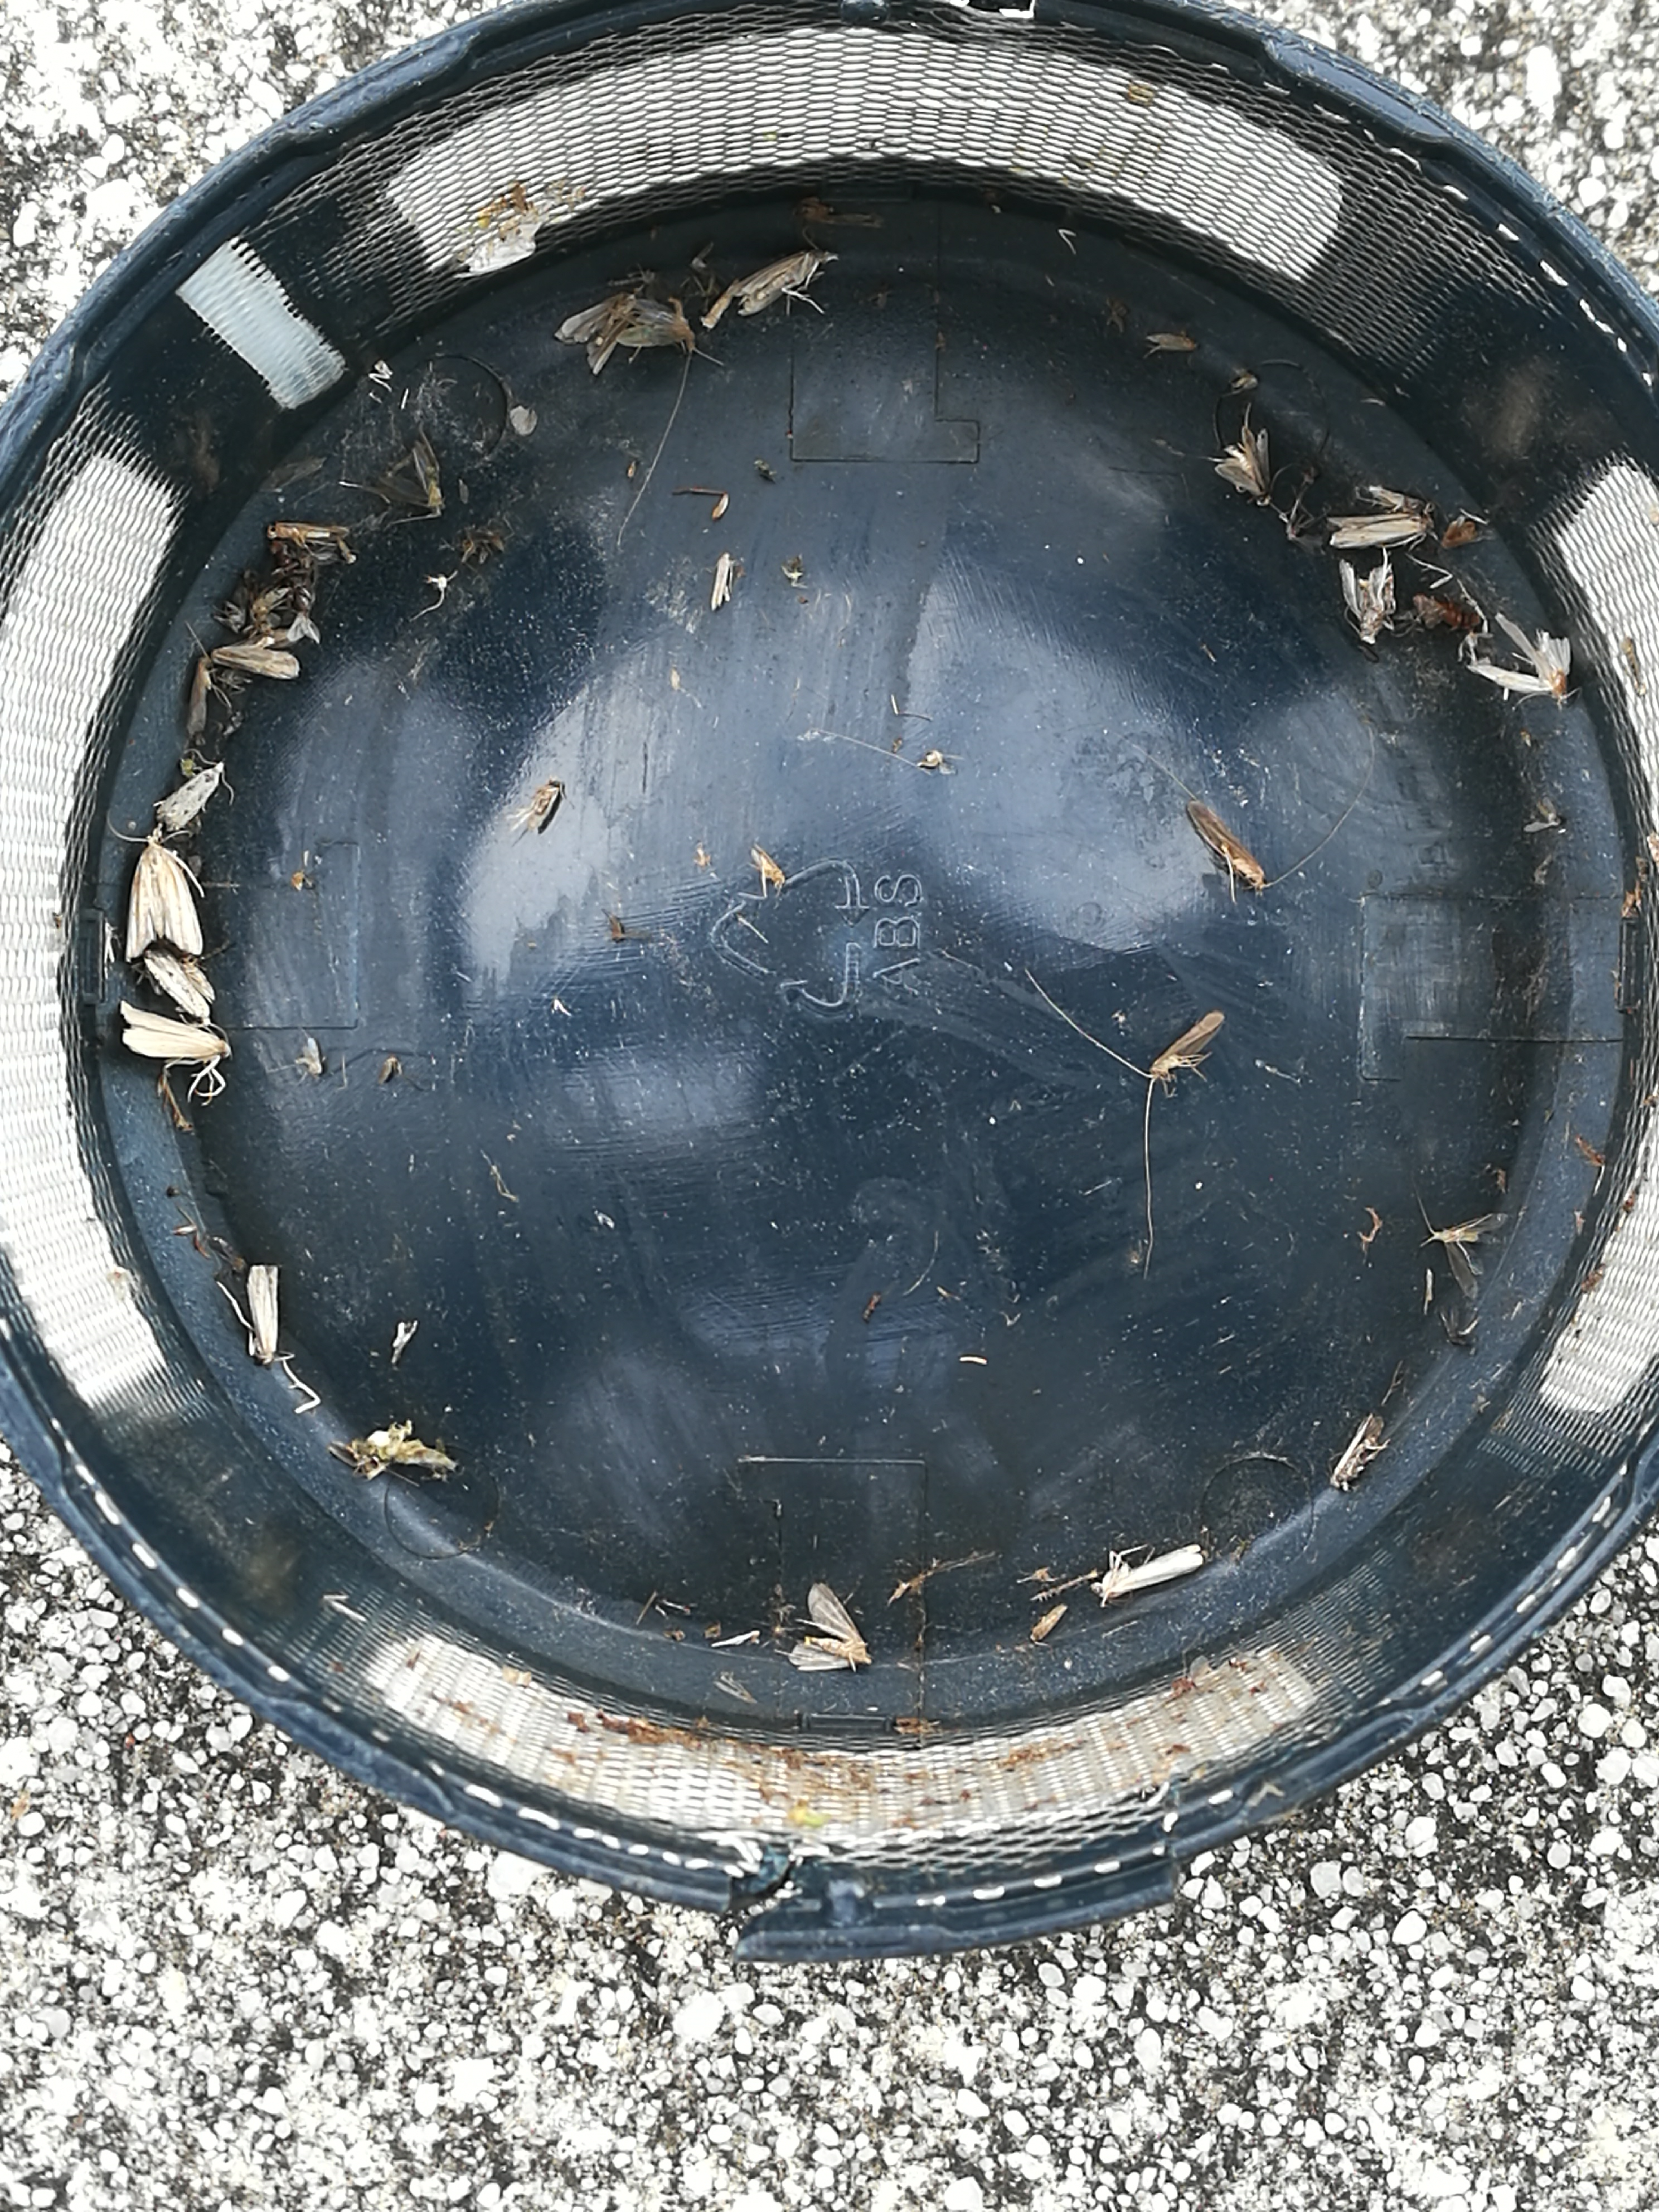mosquito: (1185, 805, 1267, 890), (1091, 1543, 1202, 1599), (732, 247, 819, 315), (1152, 1012, 1223, 1076), (1331, 1418, 1384, 1489), (246, 1264, 279, 1362), (1326, 516, 1424, 549), (214, 644, 300, 678), (186, 657, 214, 735), (528, 779, 561, 826), (267, 523, 349, 540), (751, 846, 786, 885), (713, 554, 728, 608)
moth: (125, 846, 202, 961), (1469, 611, 1570, 698), (791, 1581, 868, 1669), (556, 294, 634, 376), (120, 1001, 232, 1059), (1340, 559, 1394, 643), (146, 949, 214, 1015), (1215, 428, 1270, 496), (617, 301, 692, 348)
